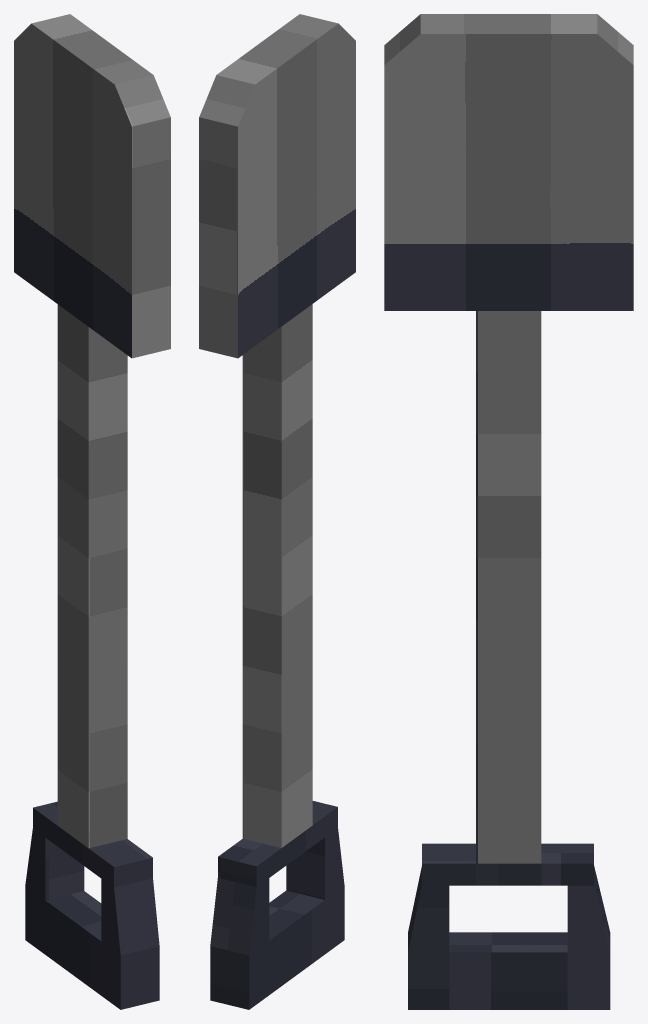
File: Gun-21.fbx
3 views of the same model, side by side, from view 1: azimuth 30°, elevation 25°; view 2: azimuth 150°, elevation 25°; view 3: azimuth 270°, elevation 25° (orthographic). The views are drawn at different scales.
Parts seen in each view (by area): view 1: Gun-21; view 2: Gun-21; view 3: Gun-21.
Boxes of the visible parts, x1,y1,x2,y2 form: Gun-21: (14,14,170,1009); Gun-21: (199,14,355,1009); Gun-21: (384,14,633,1009).
Size of the model in its own units: 5.38 by 122 by 28.17.
Materials: 1 (1 with a texture image).
